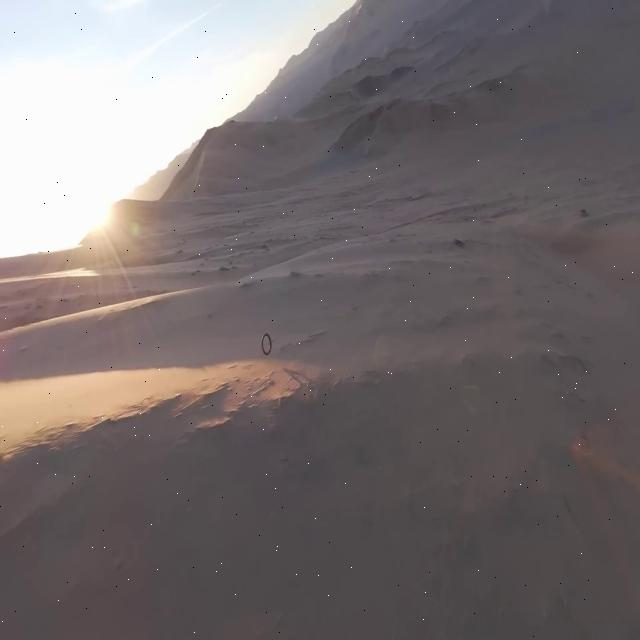Tire: (261, 333, 272, 356)
